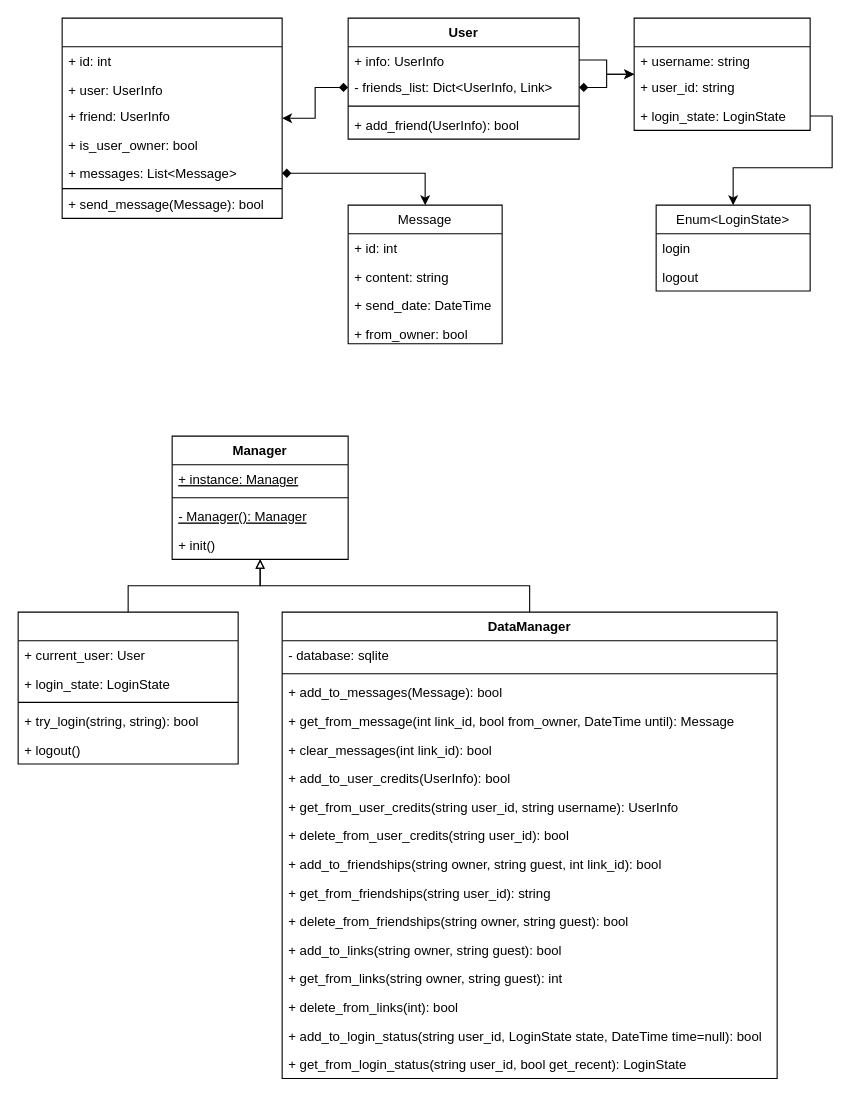
Some shapes in this 850 by 1097 pixel diagram are drawn without their labels. The box of each missing label's shape, as (x1, y1, x2, y2) in pixels:
Link: (61, 17, 282, 218)
LoginManager: (17, 611, 238, 764)
UserInfo: (633, 17, 810, 130)
